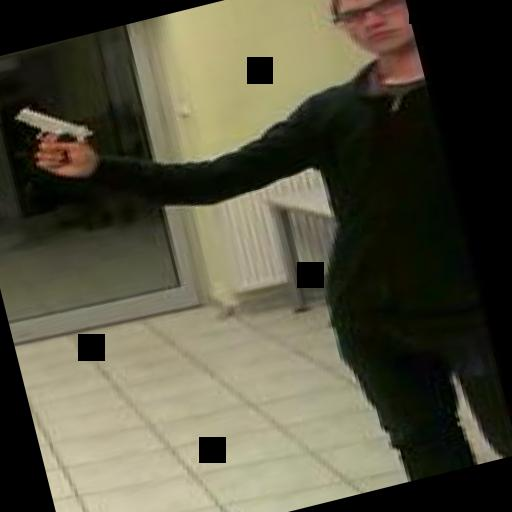Handgun: (0, 89, 102, 179)
